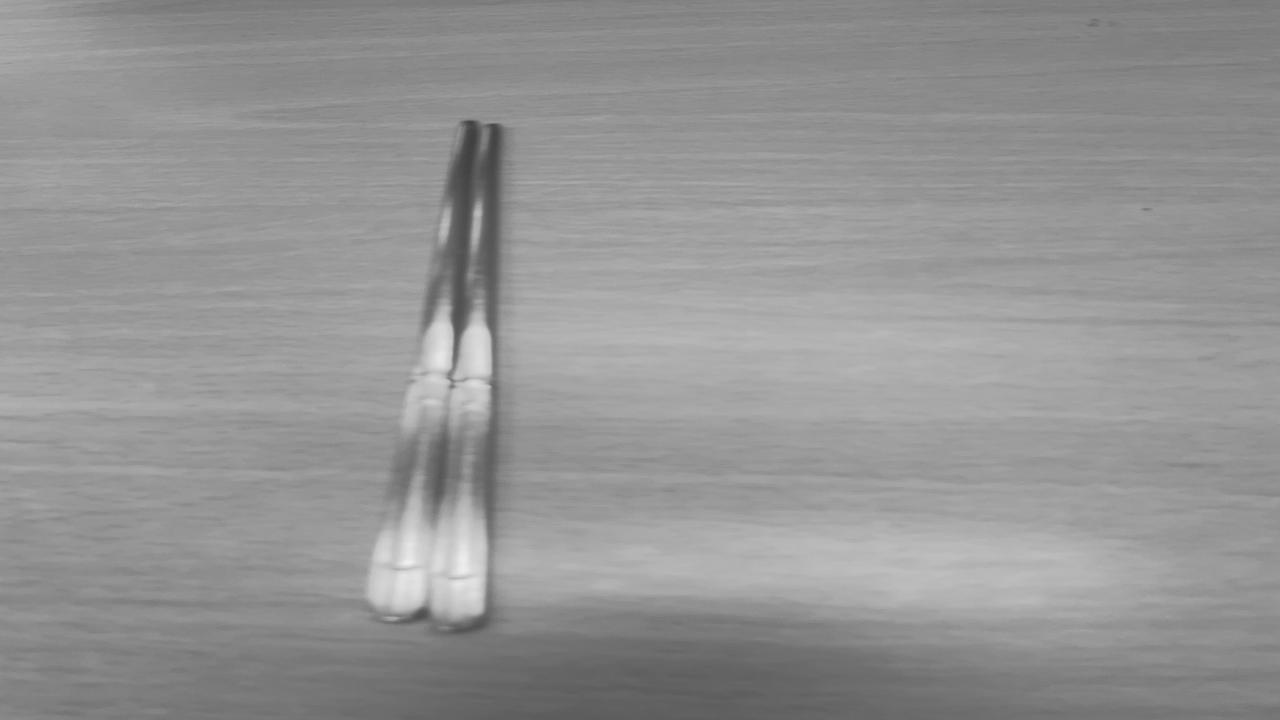chopstick: (366, 122, 504, 630)
